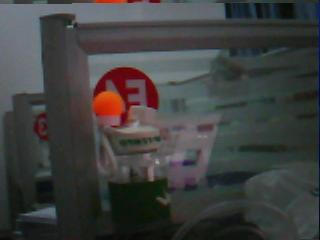oball: (93, 92, 122, 116)
